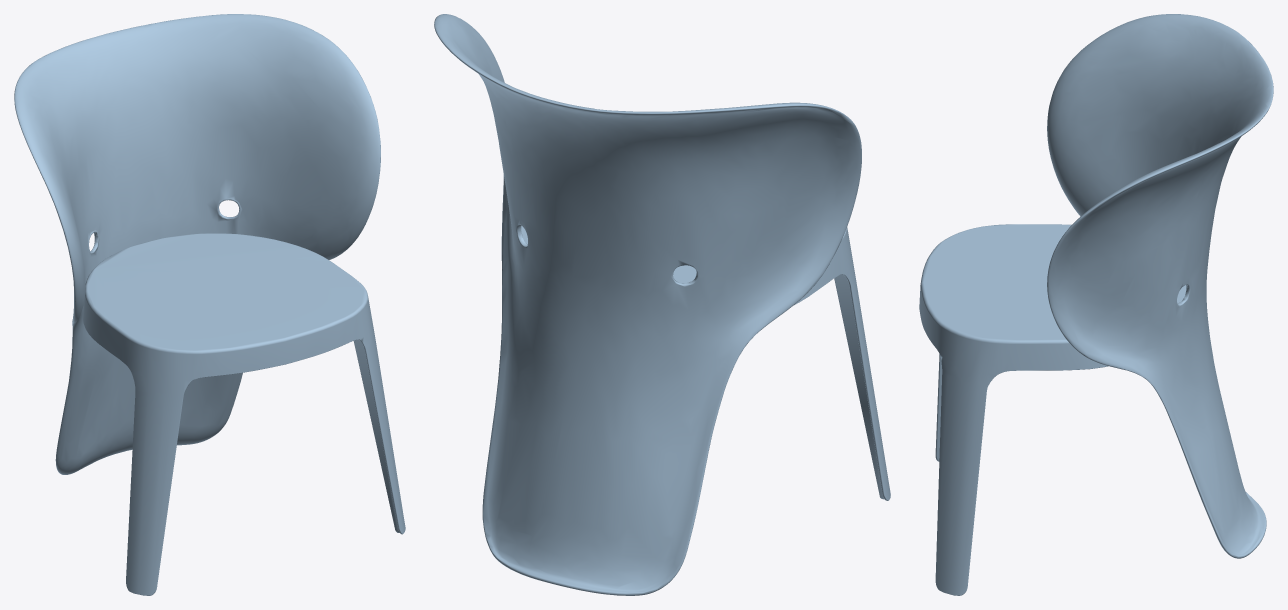
3 renders of one model, left to right at view 1: azimuth 30°, elevation 25°; view 2: azimuth 150°, elevation 25°; view 3: azimuth 270°, elevation 25°, orthographic. The views are drawn at different scales.
Parts seen in each view (by area): view 1: RootNode; view 2: RootNode; view 3: RootNode.
Part boxes in pixels (x1,y1,x2,y2): RootNode: (14,14,405,595); RootNode: (434,14,890,595); RootNode: (919,14,1273,595).
Bounding box in the file's own units: 0.4505 × 0.554 × 0.4021.
